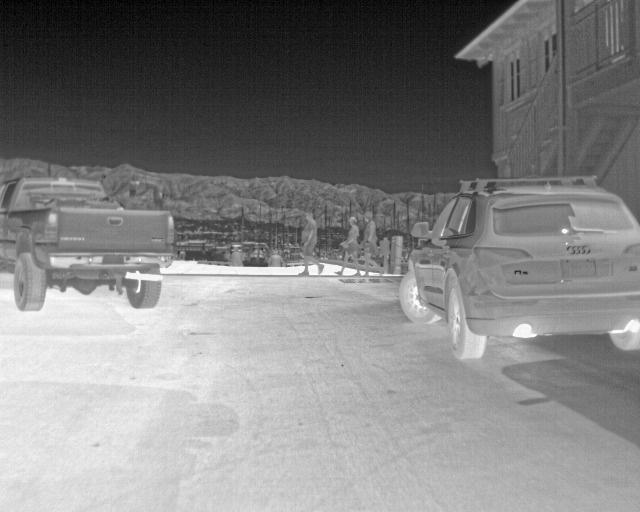bicycle: (398, 175, 638, 363), (1, 173, 177, 311)
empty: (356, 213, 387, 278), (294, 212, 323, 275), (333, 216, 361, 277)
